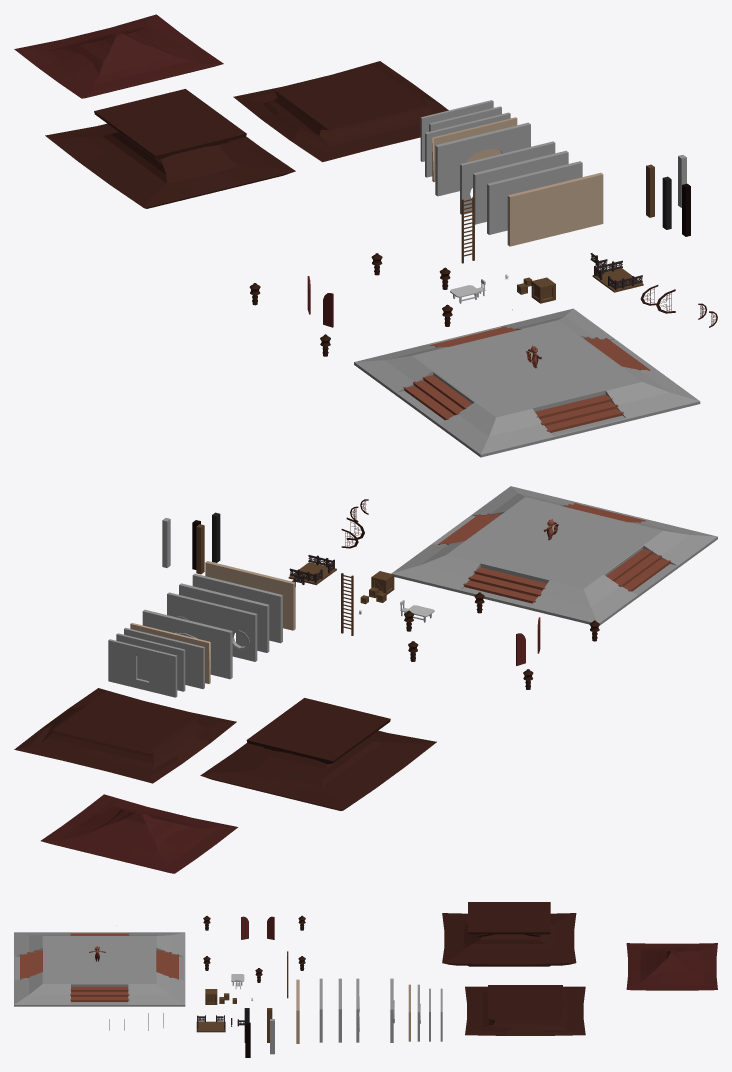
Rendered from Building_platform.fbx.
The picture shows the model from 3 angles, top to bottom: view 1: azimuth 30°, elevation 25°; view 2: azimuth 150°, elevation 25°; view 3: azimuth 270°, elevation 25°; orthographic projection. The views are drawn at different scales.
Parts seen in each view (by area): view 1: Cube, Cube.005, Cube.006, Cube.008, Plane.002, Plane.004, Plane.005, Plane.010, Plane, Plane.012, Plane.011, Plane.001; view 2: Cube, Cube.005, Cube.006, Cube.008, Plane.001, Plane, Plane.004, Plane.002, Plane.010, Plane.005, Plane.011, Plane.013 (+2 smaller); view 3: Cube, Cube.005, Cube.006, Cube.008, Plane.003, Cube.001, Cylinder.001, Plane.004.
Part boxes in pixels (<box>): Cube: <box>354,308,700,457</box>; Cube.005: <box>45,89,295,208</box>; Cube.006: <box>233,61,448,162</box>; Cube.008: <box>14,14,223,98</box>; Plane.002: <box>507,172,603,246</box>; Plane.004: <box>435,122,530,196</box>; Plane.005: <box>487,161,582,234</box>; Plane.010: <box>473,150,568,224</box>; Plane: <box>460,141,555,214</box>; Plane.012: <box>432,117,517,181</box>; Plane.011: <box>425,112,510,177</box>; Plane.001: <box>420,100,493,161</box>; Cube: <box>391,486,717,625</box>; Cube.005: <box>200,698,436,810</box>; Cube.006: <box>14,688,236,783</box>; Cube.008: <box>41,794,238,873</box>; Plane.001: <box>108,639,177,697</box>; Plane: <box>167,592,257,661</box>; Plane.004: <box>142,609,232,679</box>; Plane.002: <box>205,561,295,630</box>; Plane.010: <box>179,583,269,652</box>; Plane.005: <box>192,573,282,643</box>; Plane.011: <box>124,627,204,688</box>; Plane.013: <box>116,633,185,691</box>; Cube: <box>14,932,185,1006</box>; Cube.005: <box>442,902,576,966</box>; Cube.006: <box>465,985,585,1035</box>; Cube.008: <box>626,943,717,990</box>; Plane.003: <box>241,916,274,939</box>; Cube.001: <box>196,1021,225,1032</box>; Cylinder.001: <box>203,915,305,970</box>; Plane.004: <box>390,978,394,1042</box>.
Size of the model in its own units: 11492 by 1763 by 24983.
